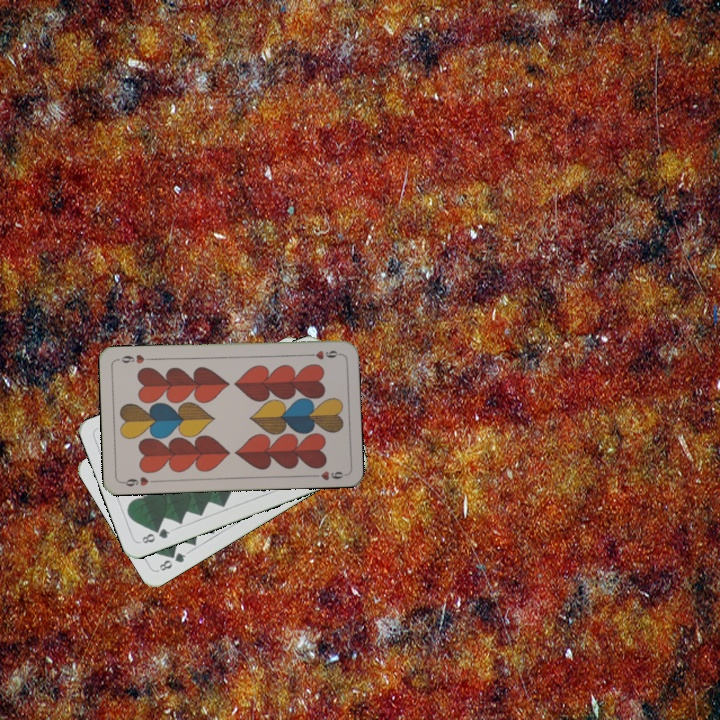G8: (155, 548, 188, 574), (138, 524, 172, 546)
H9: (302, 346, 343, 362), (118, 473, 158, 489)
